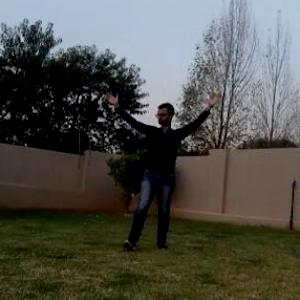takeoff: (92, 88, 222, 251)
